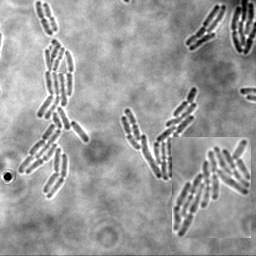Dividing: (34, 1, 52, 37), (41, 3, 57, 33), (51, 46, 65, 72)
Microcolony: (18, 40, 89, 199), (172, 137, 251, 238), (120, 87, 197, 181), (184, 5, 226, 52), (230, 1, 255, 56)
